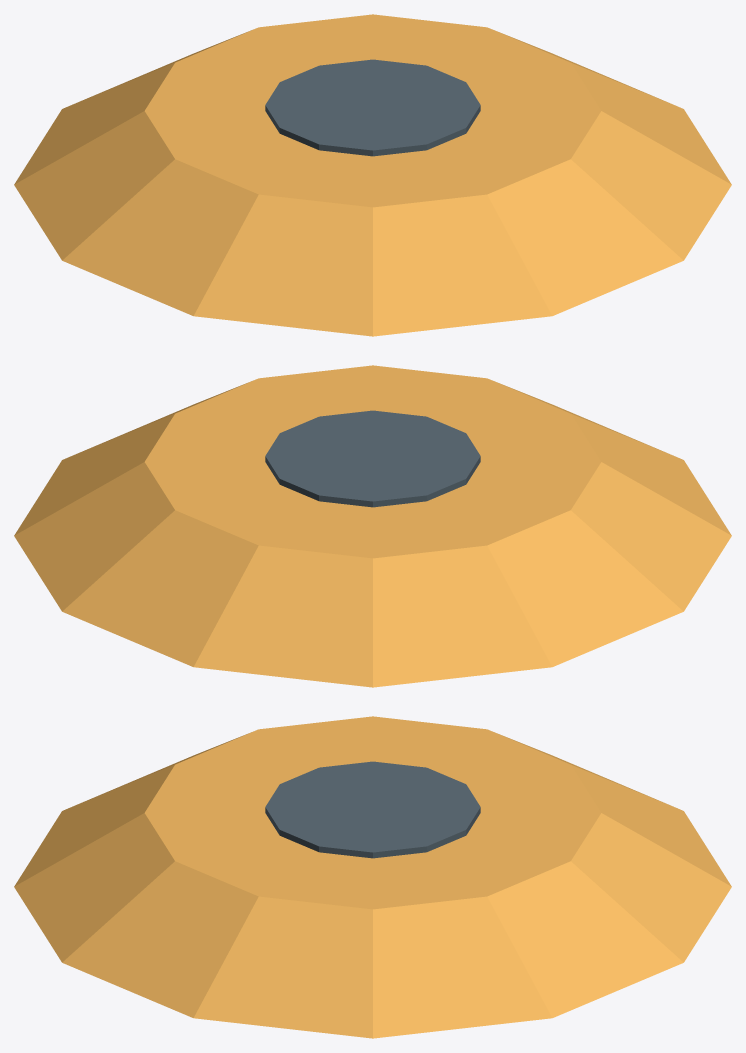
The model's file is disc-marker-ce194594.glb.
3 renders of one model, top to bottom at view 1: azimuth 30°, elevation 25°; view 2: azimuth 150°, elevation 25°; view 3: azimuth 270°, elevation 25°, orthographic.
Parts seen in each view (by area): view 1: disc-marker; view 2: disc-marker; view 3: disc-marker.
Part boxes in pixels (left/top/right/bottom): disc-marker: left=14, top=14, right=731, bottom=336; disc-marker: left=14, top=365, right=731, bottom=687; disc-marker: left=14, top=716, right=731, bottom=1038.
Bounding box in the file's own units: 0.22 × 0.027 × 0.22.
